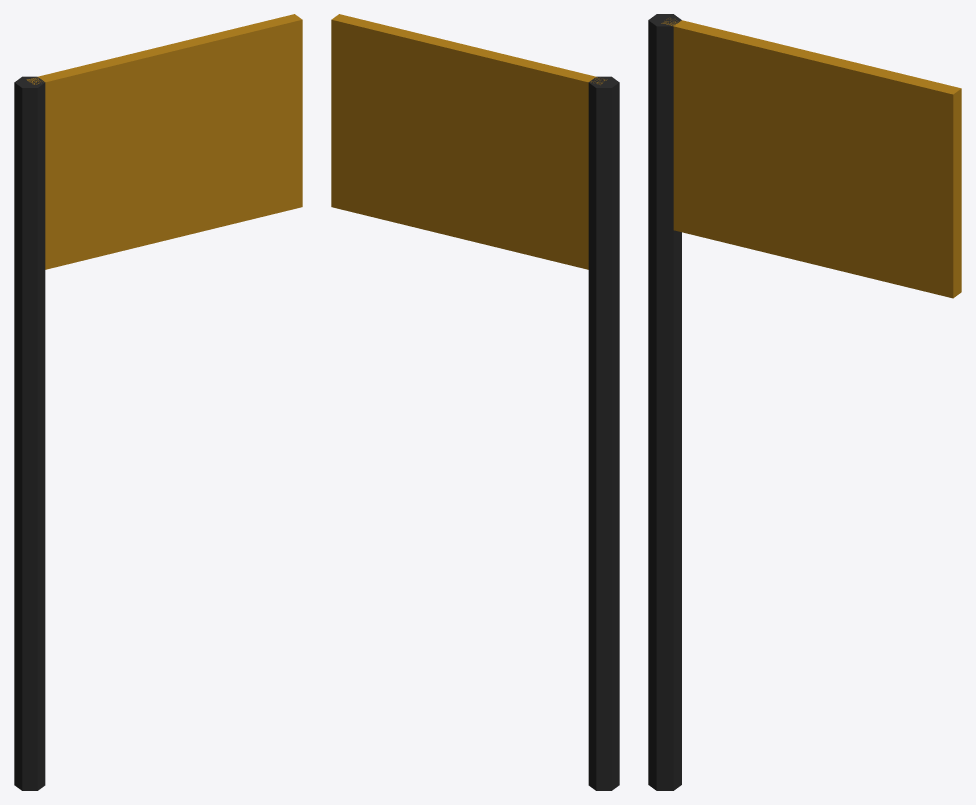
Rendered from stop-flag.glb.
3 views of the same model, side by side, from view 1: azimuth 30°, elevation 25°; view 2: azimuth 150°, elevation 25°; view 3: azimuth 330°, elevation 25° (orthographic). The views are drawn at different scales.
Visible parts, largest first — view 1: stop-flag; view 2: stop-flag; view 3: stop-flag.
Part boxes in pixels (<box>): stop-flag: <box>14,14,302,790</box>; stop-flag: <box>331,14,619,790</box>; stop-flag: <box>648,14,961,790</box>.
Size of the model in its own units: 0.1252 by 0.3 by 0.012.
